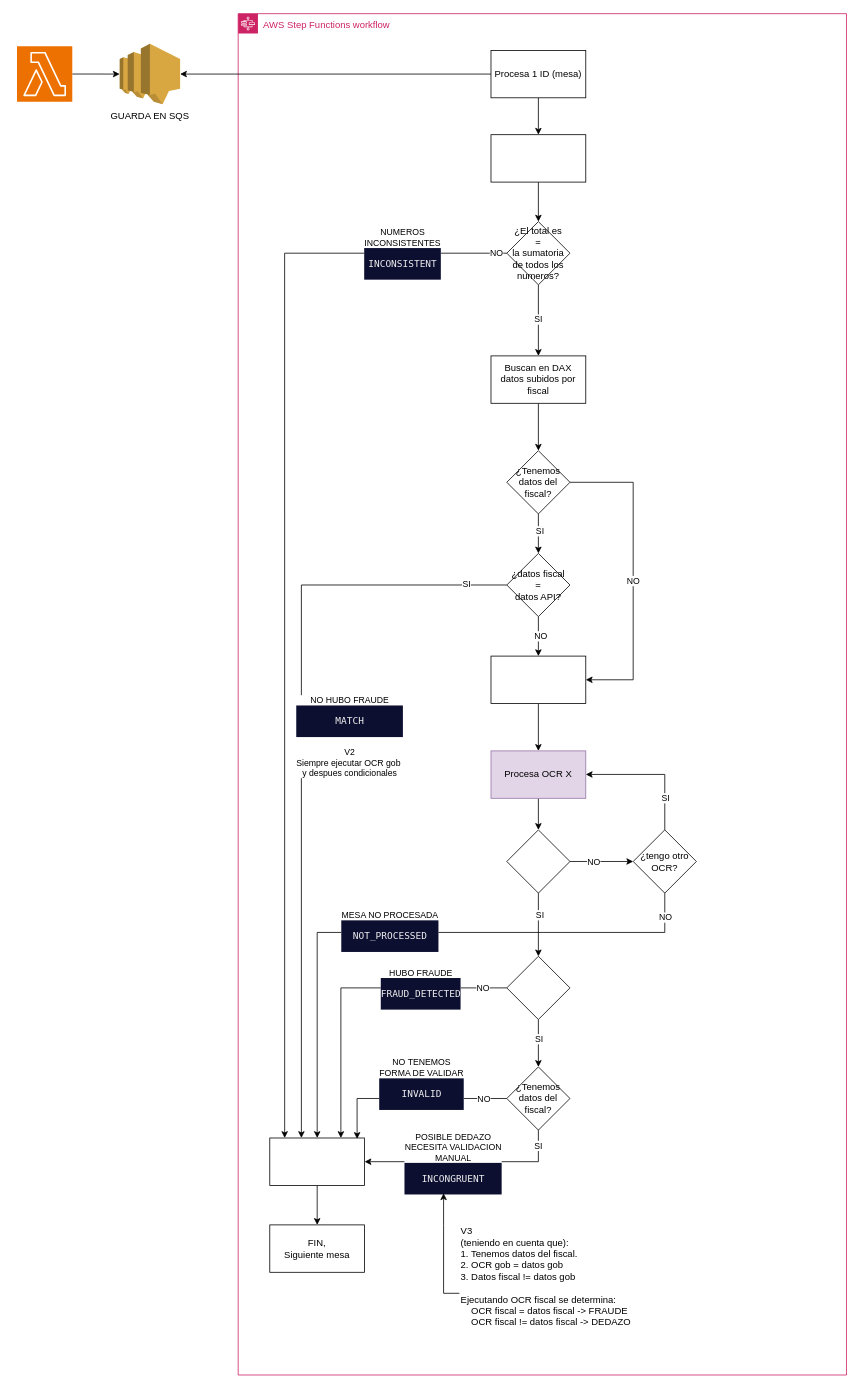
The diagram is 860 pixels wide and 1390 high, and some of its shapes have lost their labels. Here are the shapes that lost their labels. From the top down, the centre of each, then its label:
(x=44, y=74): LEVANTA IDS MESAS JSON
(x=538, y=158): Saca los resultados provisorios API (getScope)
(x=538, y=679): Guarda telegrama en S3 .tiff
(x=538, y=861): ¿OCR detectó 100%?
(x=538, y=987): ¿OCR gob = datos gob?
(x=317, y=1161): Guarda resultado (DB)
